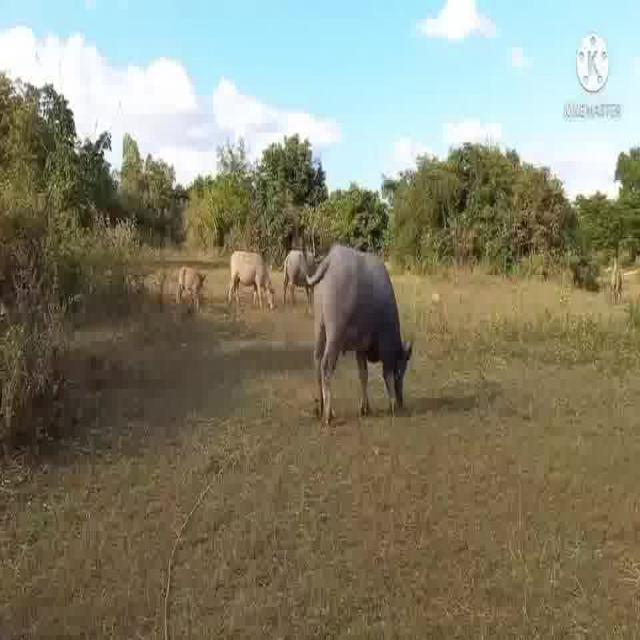buffalo: (305, 239, 412, 425), (228, 248, 280, 320), (280, 248, 320, 310)
